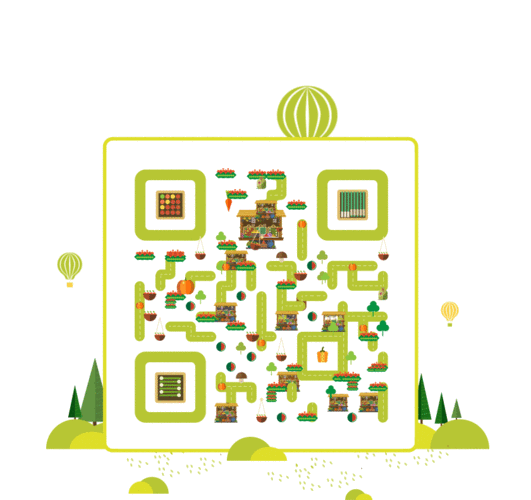QRCode: (129, 163, 406, 435)
